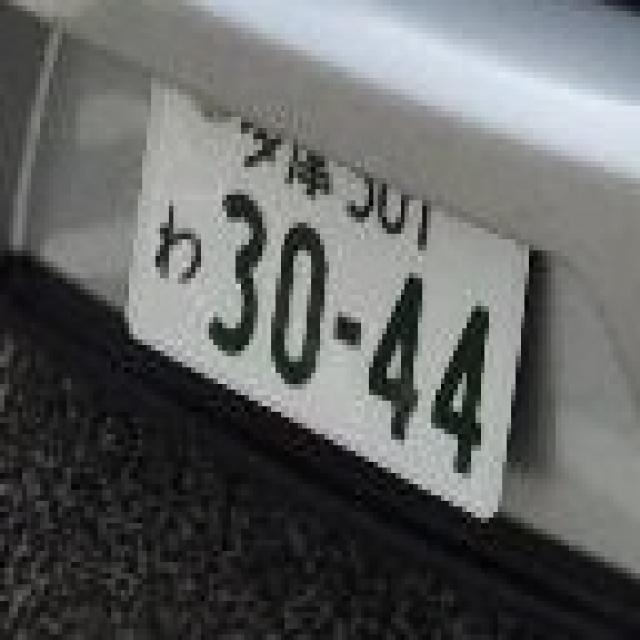licenseplate: (117, 36, 526, 528)
